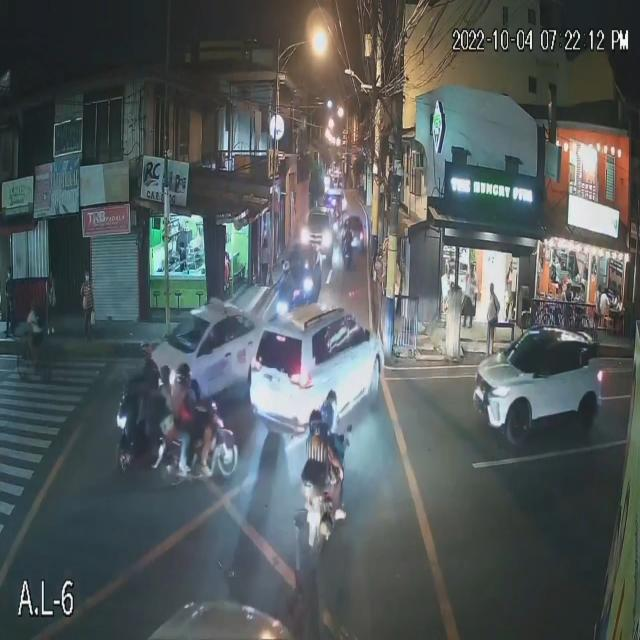Full-Faced: (307, 406, 326, 439), (317, 395, 333, 426), (177, 364, 194, 389)
Half-Faced: (136, 339, 155, 365)
